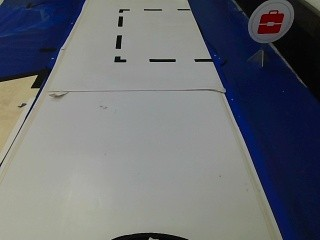company: (247, 0, 294, 43)
